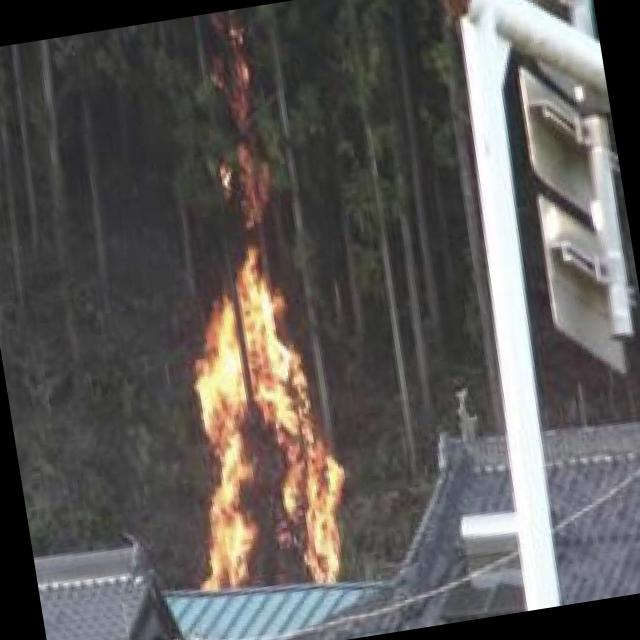Fire: (157, 238, 366, 602)
